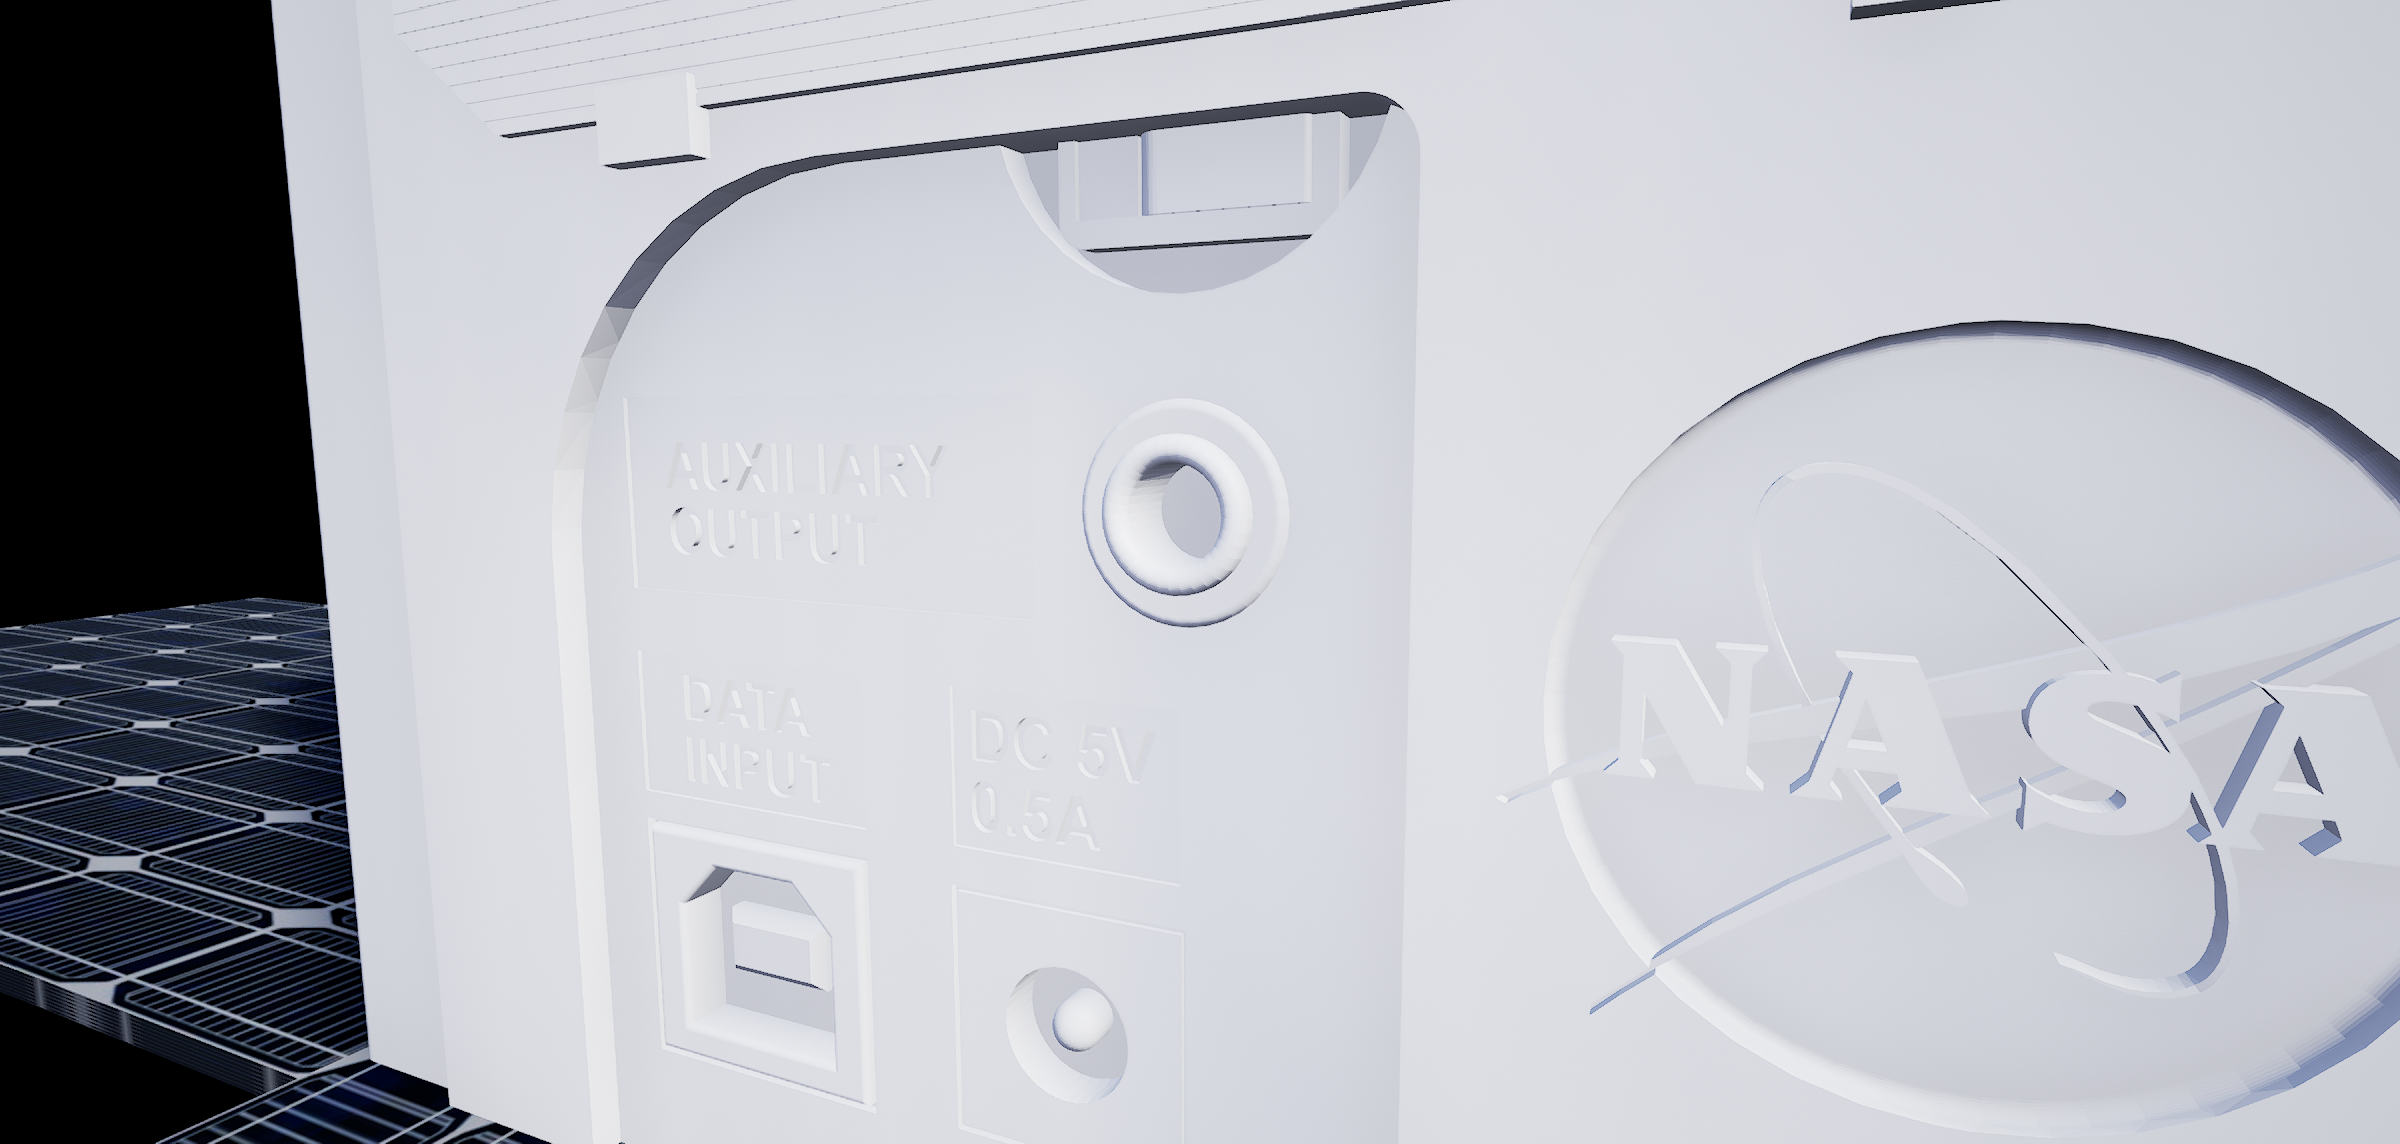aux: (1065, 381, 1327, 639)
dc: (987, 951, 1146, 1123)
usb: (673, 859, 860, 1084)
